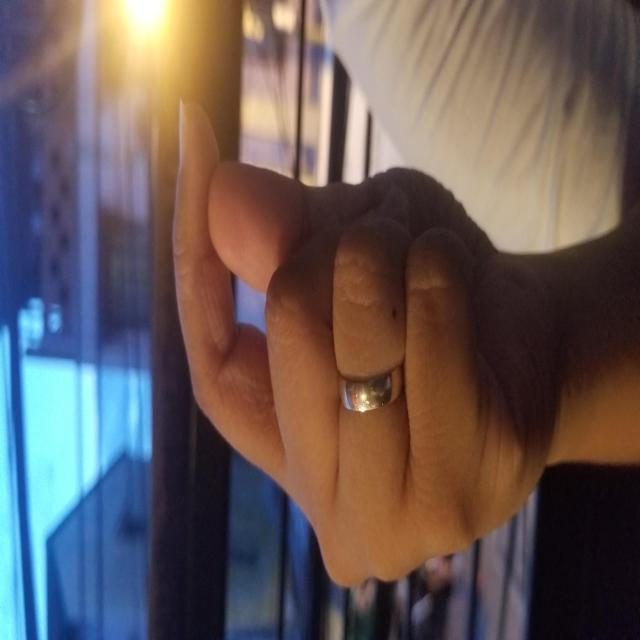T: (46, 172, 544, 558)
